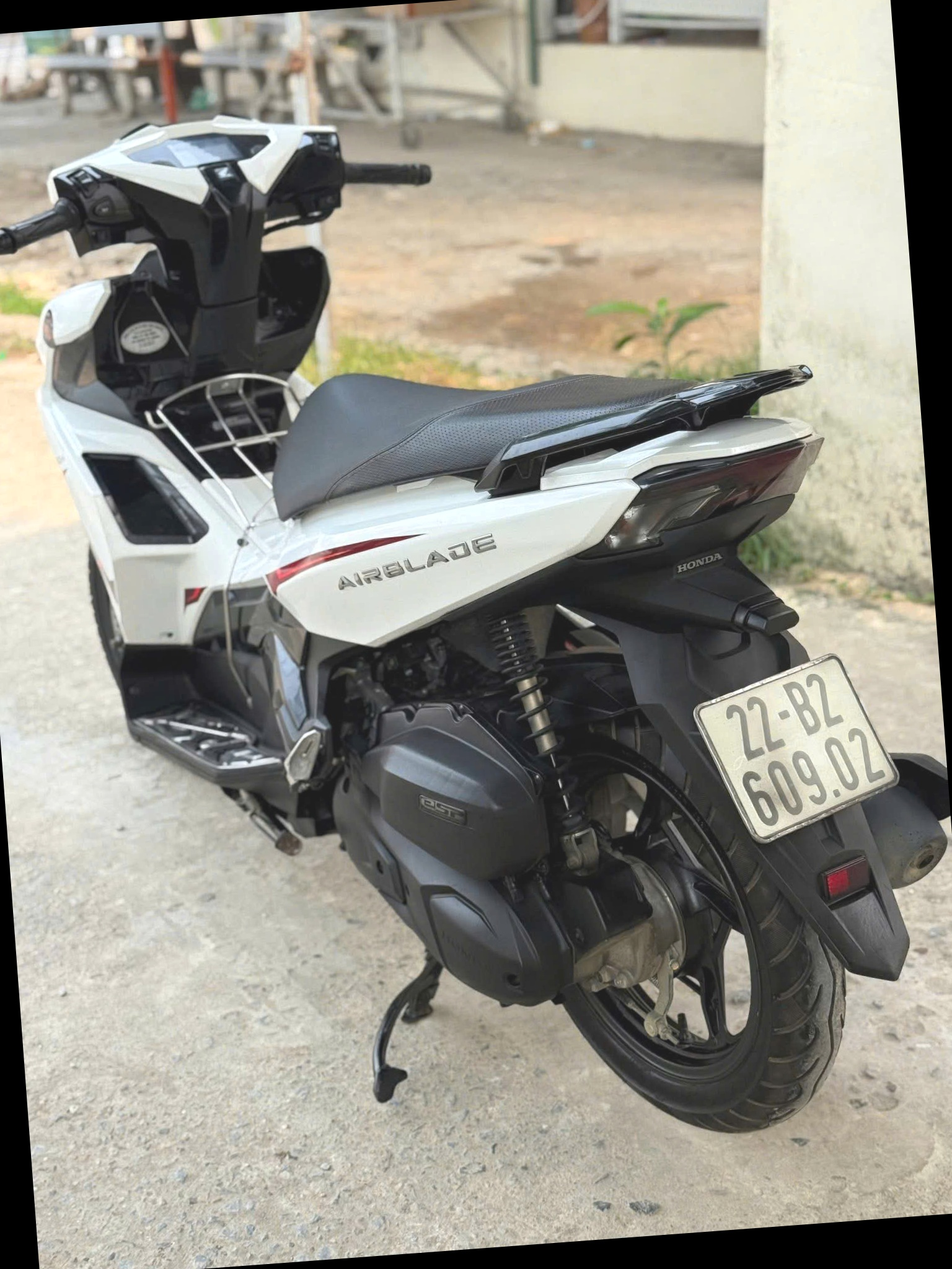Bien-so: (690, 730, 900, 946)
